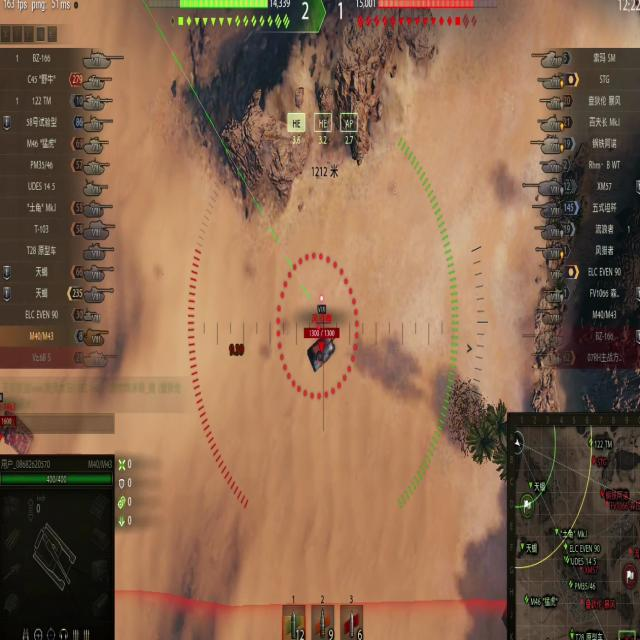tank: (301, 322, 343, 374)
